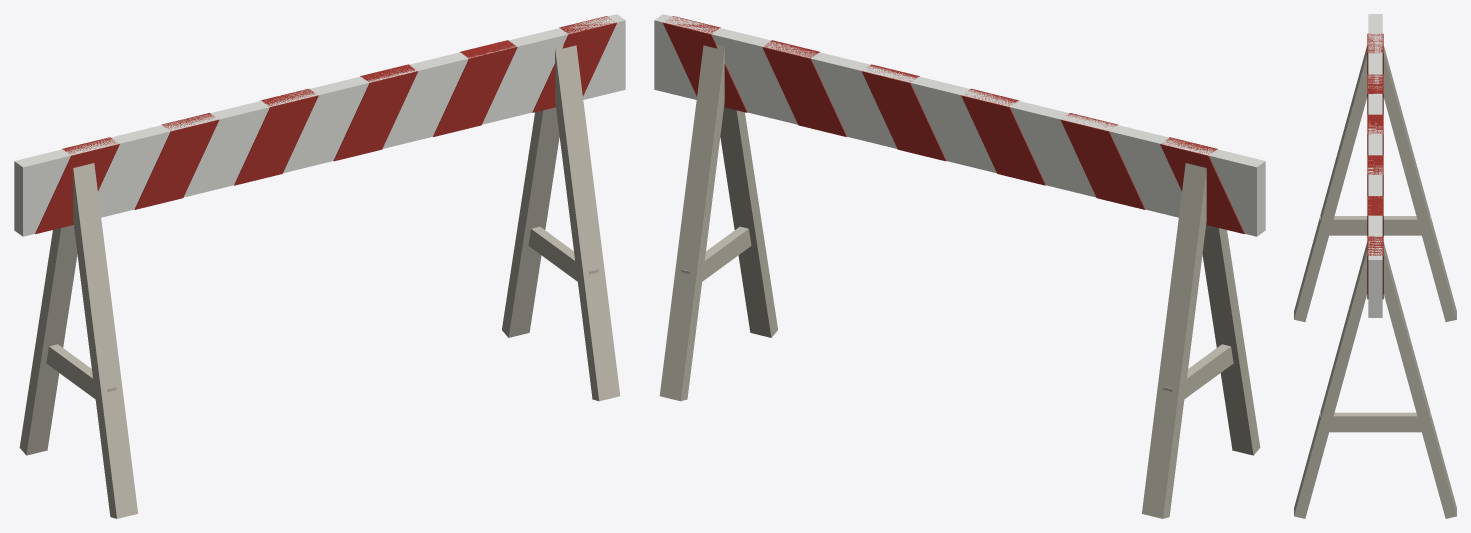
The model's file is barriere.glb.
3 views of the same model, side by side, from view 1: azimuth 30°, elevation 25°; view 2: azimuth 150°, elevation 25°; view 3: azimuth 270°, elevation 25° (orthographic). The views are drawn at different scales.
Parts seen in each view (by area): view 1: board, stripes, leg_rf, leg_lf, leg_lb, leg_rb, tie_r, tie_l; view 2: board, stripes, leg_rb, leg_lb, leg_lf, leg_rf, tie_r, tie_l; view 3: leg_rf, leg_rb, leg_lf, leg_lb, board, stripes, tie_r, tie_l.
Boxes of the visible parts, x1=… form: board: x1=14, y1=14, x2=625, y2=236; stripes: x1=35, y1=16, x2=616, y2=234; leg_rf: x1=555, y1=44, x2=620, y2=401; leg_lf: x1=73, y1=163, x2=137, y2=518; leg_lb: x1=19, y1=225, x2=77, y2=455; leg_rb: x1=502, y1=107, x2=559, y2=337; tie_r: x1=528, y1=226, x2=598, y2=281; tie_l: x1=46, y1=344, x2=116, y2=399; board: x1=654, y1=14, x2=1265, y2=236; stripes: x1=663, y1=16, x2=1244, y2=234; leg_rb: x1=659, y1=44, x2=724, y2=401; leg_lb: x1=1142, y1=163, x2=1206, y2=518; leg_lf: x1=1202, y1=225, x2=1260, y2=455; leg_rf: x1=720, y1=107, x2=777, y2=337; tie_r: x1=681, y1=226, x2=751, y2=281; tie_l: x1=1163, y1=344, x2=1233, y2=399; leg_rf: x1=1294, y1=242, x2=1367, y2=518; leg_rb: x1=1383, y1=242, x2=1456, y2=518; leg_lf: x1=1294, y1=45, x2=1367, y2=321; leg_lb: x1=1383, y1=45, x2=1456, y2=321; board: x1=1368, y1=14, x2=1382, y2=317; stripes: x1=1367, y1=33, x2=1383, y2=299; tie_r: x1=1320, y1=412, x2=1430, y2=432; tie_l: x1=1320, y1=216, x2=1430, y2=235.
Bounding box in the file's own units: 2 × 1.06 × 0.5601.
Materials: 3 (3 with a texture image).
